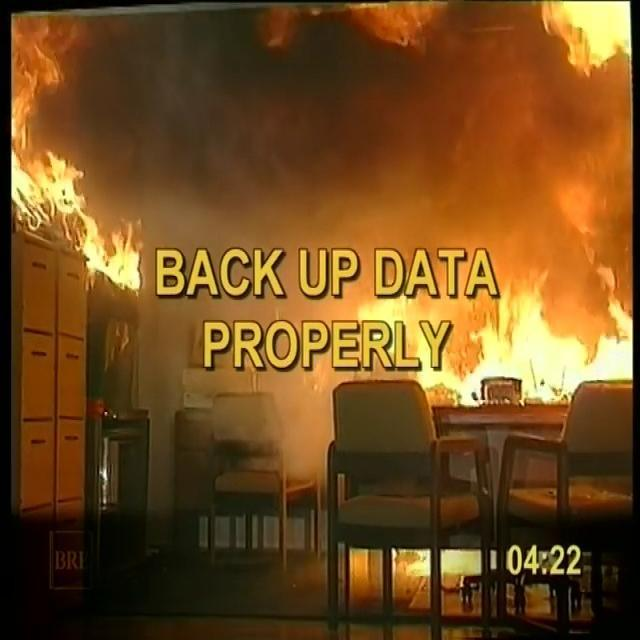Fire: (14, 7, 629, 410)
